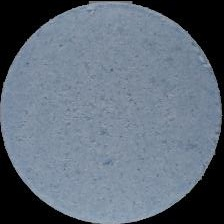42291-229: (0, 0, 224, 224)
